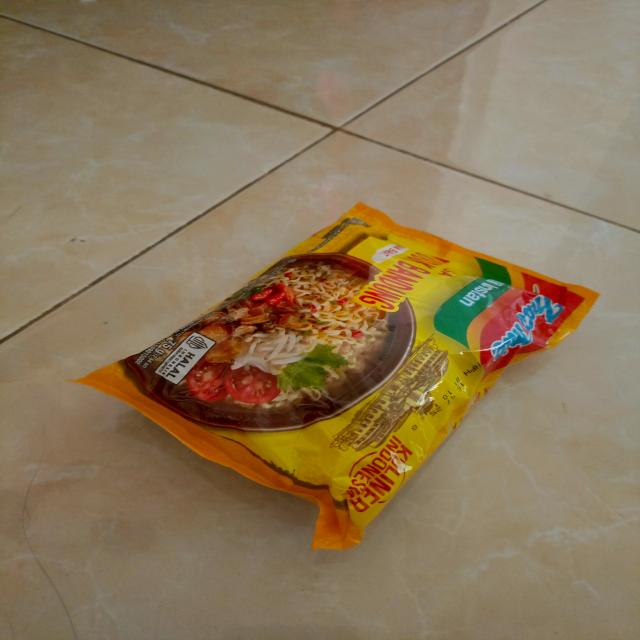indomie-mie-kocok-bandung: (67, 202, 600, 552)
